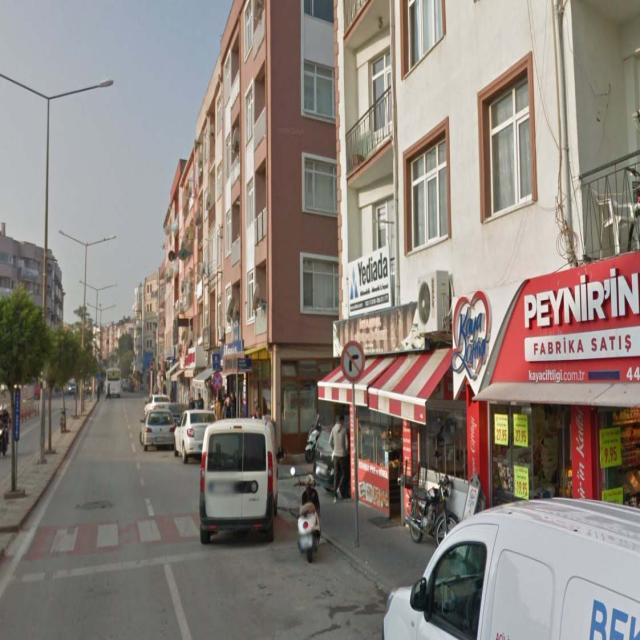sagadonulmez: (340, 342, 364, 380)
